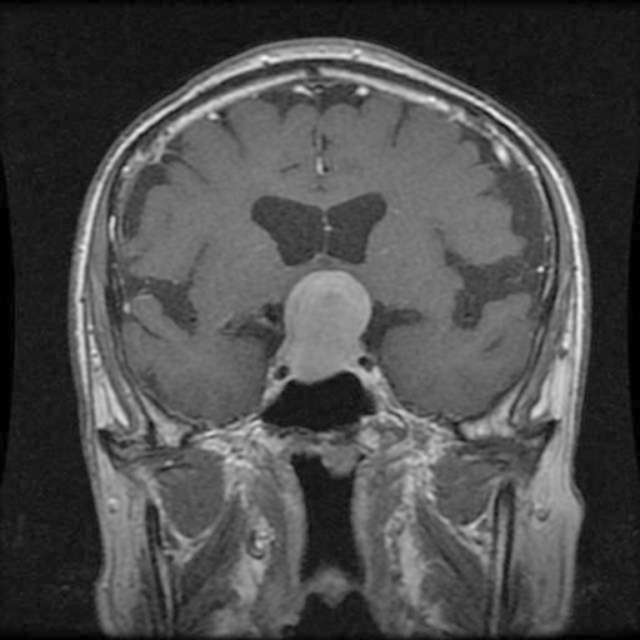no tumor: (276, 260, 376, 380)
